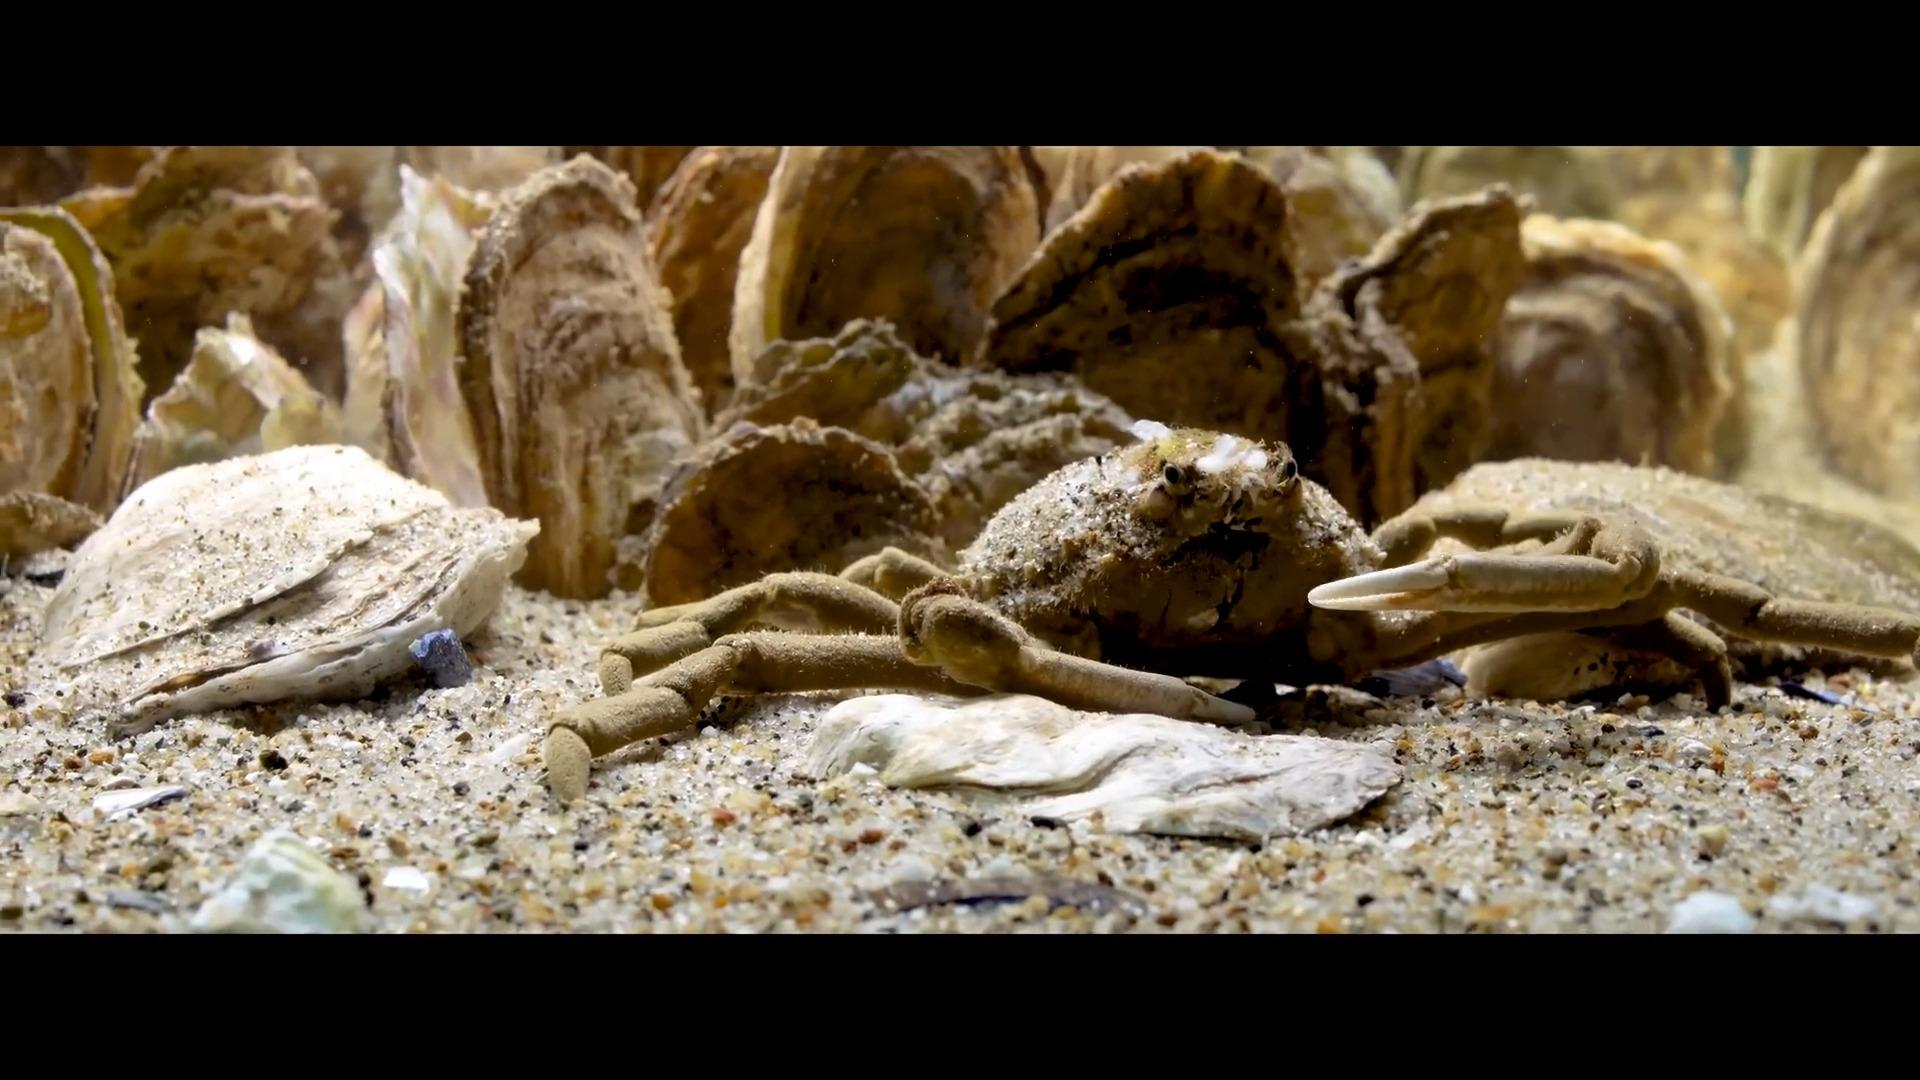Oyster: (40, 446, 535, 732), (42, 446, 535, 704), (444, 152, 702, 596), (808, 691, 1386, 848), (731, 146, 1040, 380), (0, 208, 142, 510)
